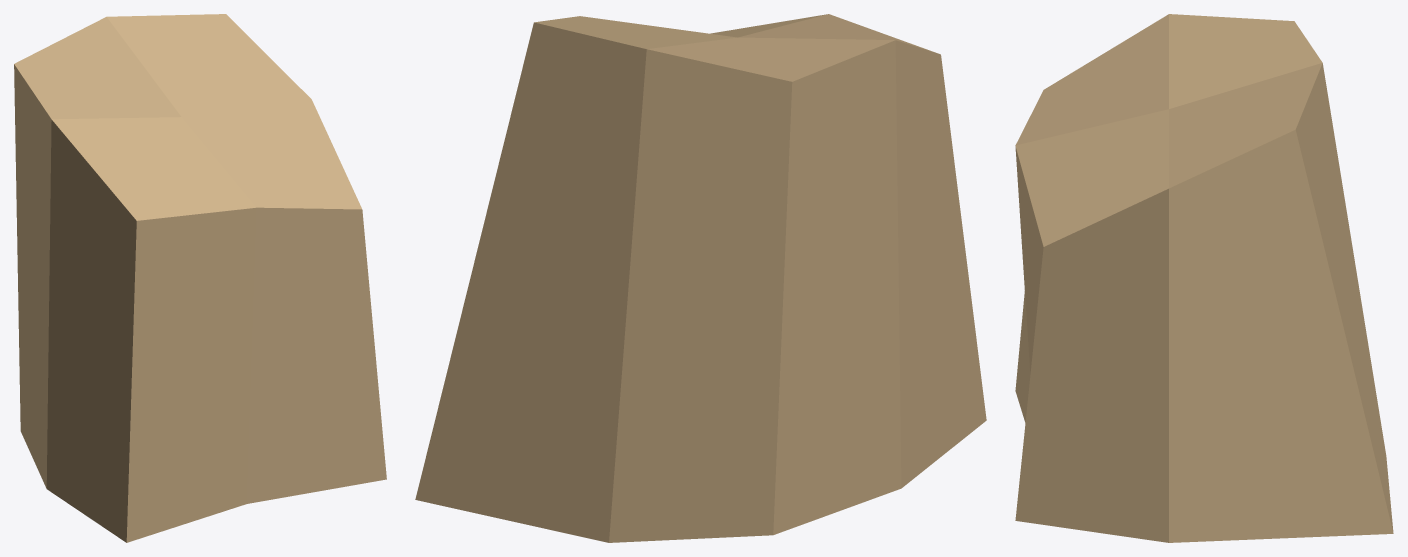
File: Rock_2.fbx
3 views of the same model, side by side, from view 1: azimuth 30°, elevation 25°; view 2: azimuth 150°, elevation 25°; view 3: azimuth 270°, elevation 25° (orthographic). The views are drawn at different scales.
Visible parts, largest first — view 1: pasted__pPlatonic2; view 2: pasted__pPlatonic2; view 3: pasted__pPlatonic2.
Boxes of the visible parts, x1,y1,x2,y2 form: pasted__pPlatonic2: [14, 14, 386, 542]; pasted__pPlatonic2: [415, 14, 986, 542]; pasted__pPlatonic2: [1015, 14, 1393, 542].
Size of the model in its own units: 336 by 399 by 348.
